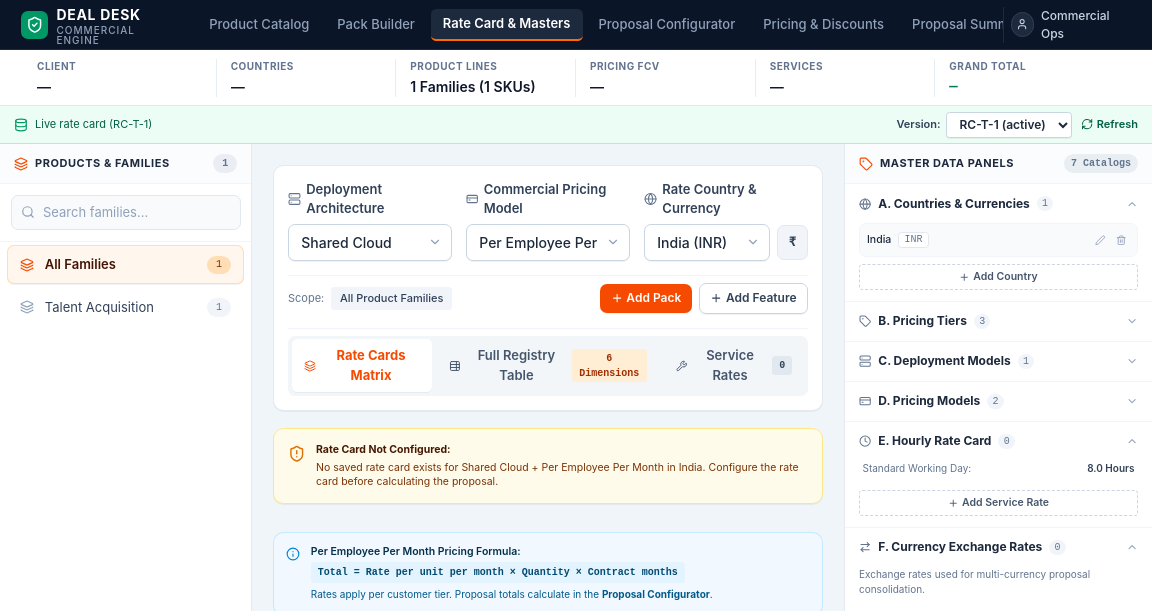
Test: Rate Card — Platform + Subscription (tier fees, UOM, subscription rate) › shows one platform fee column per backend tier, one UOM and one subscription rate per row
The width and height of the screenshot is (1164, 611).
Expected: the text "Live rate card (RC-T-1)" is shown, [35, 116, 152, 133]
Select "Platform + Subscription" in the dropdown labelled "Commercial Pricing Model" at (548, 242), box [466, 224, 630, 261]
(page scrolled)
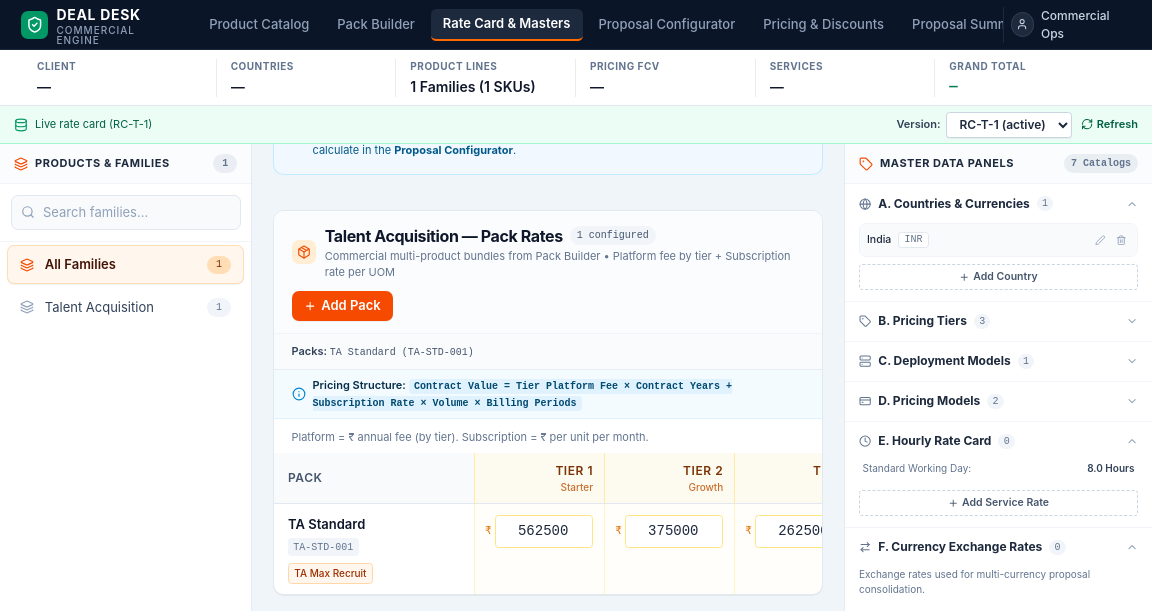
Result: the text "Starter" is shown at [560, 480, 593, 492]
Result: the text "Growth" is shown at [688, 480, 723, 492]
Result: the number field named "TA Standard Tier 1 Platform Fee" holds "562500" at [495, 515, 593, 548]
